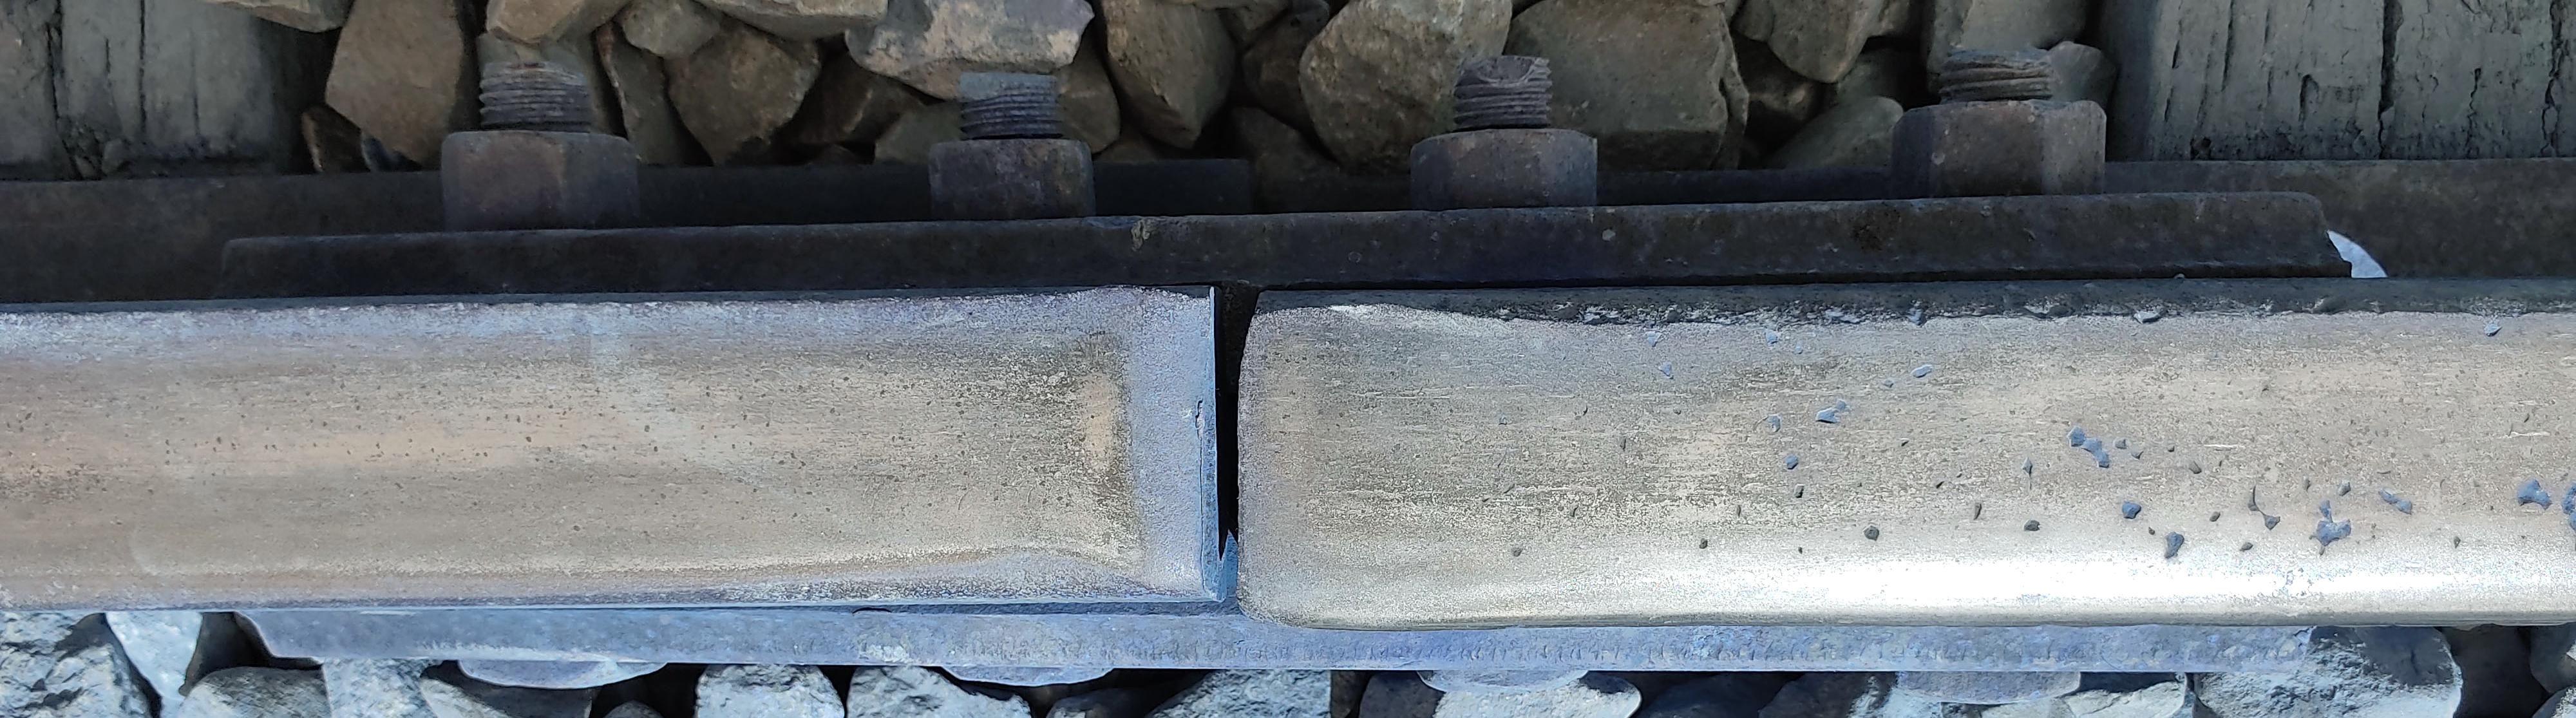error2: (1160, 194, 1308, 674)
